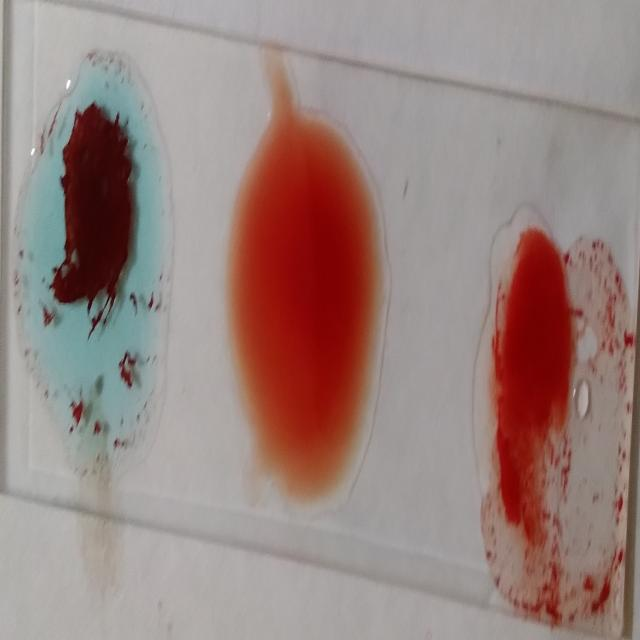A: (24, 58, 166, 470)
D: (482, 222, 628, 627)
